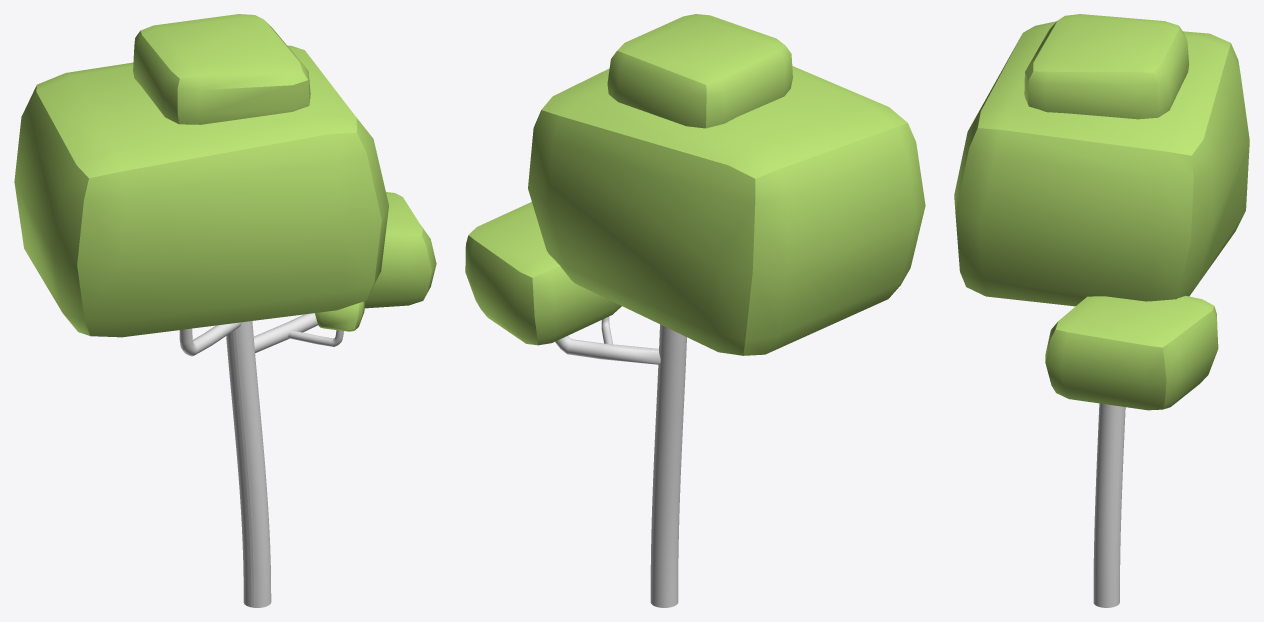
The model's file is my_birch.gltf.
3 views of the same model, side by side, from view 1: azimuth 30°, elevation 25°; view 2: azimuth 150°, elevation 25°; view 3: azimuth 270°, elevation 25° (orthographic). The views are drawn at different scales.
Parts seen in each view (by area): view 1: leafs, stem; view 2: leafs, stem; view 3: leafs, stem.
Boxes of the visible parts, bbox=[...] form: leafs: bbox=[14, 14, 436, 337]; stem: bbox=[179, 313, 343, 607]; leafs: bbox=[465, 14, 925, 355]; stem: bbox=[555, 316, 686, 607]; leafs: bbox=[954, 14, 1249, 410]; stem: bbox=[1093, 403, 1125, 607].
Bounding box in the file's own units: 2.09 × 2.86 × 1.4.
